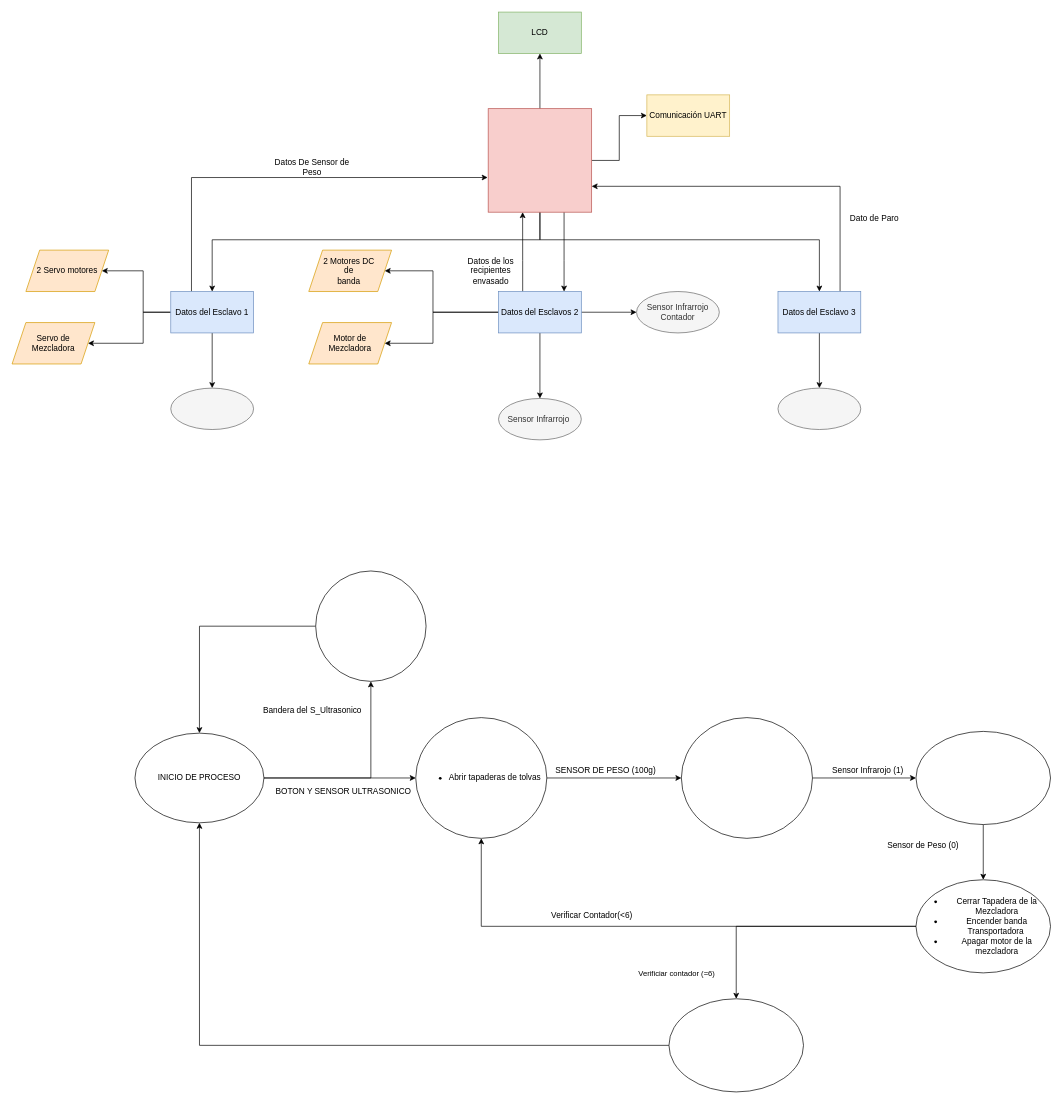
This 1063x1104 diagram has some shape labels left out. The shapes that lost their labels are listed below. From the top down, each one's centre as x and y in pixels, then its label:
(539,160): Maestro
(212,408): Sensor de Peso
(819,408): Sensor Ultrasonico
(370,625): Bandera del Startd (0)
(746,777): Cierra tapaderas de tolvas Activa motor para aspas Activa Banda Transportadora
(983,778): Para Banda Transportadora Abre tapadera de Mezcladora
(736,1045): Bandera de Startd (0)
